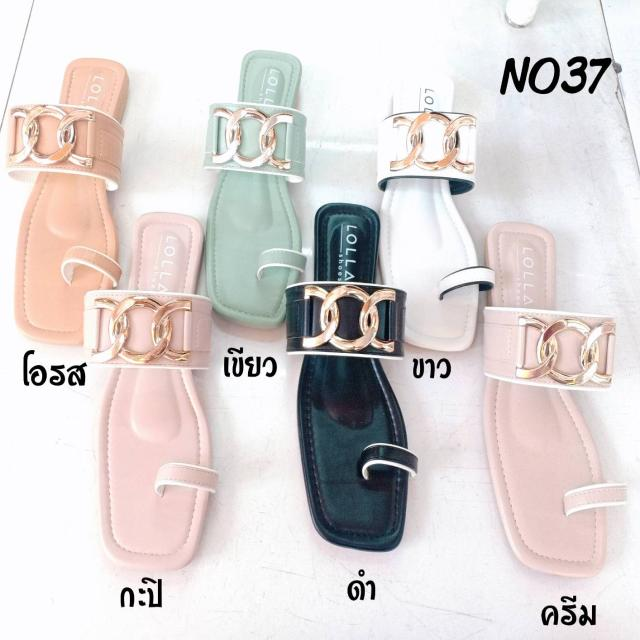black: (296, 205, 408, 550)
cream: (486, 216, 606, 578)
green: (210, 48, 304, 336)
kapi: (96, 216, 213, 567)
orot: (12, 57, 118, 346)
white: (384, 74, 476, 352)
